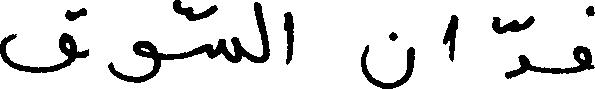X: (0, 5, 74, 77), (361, 27, 413, 88), (113, 36, 159, 87), (209, 0, 241, 67), (575, 1, 594, 77), (508, 14, 527, 83), (255, 0, 267, 67), (446, 10, 456, 66), (285, 7, 292, 69)
